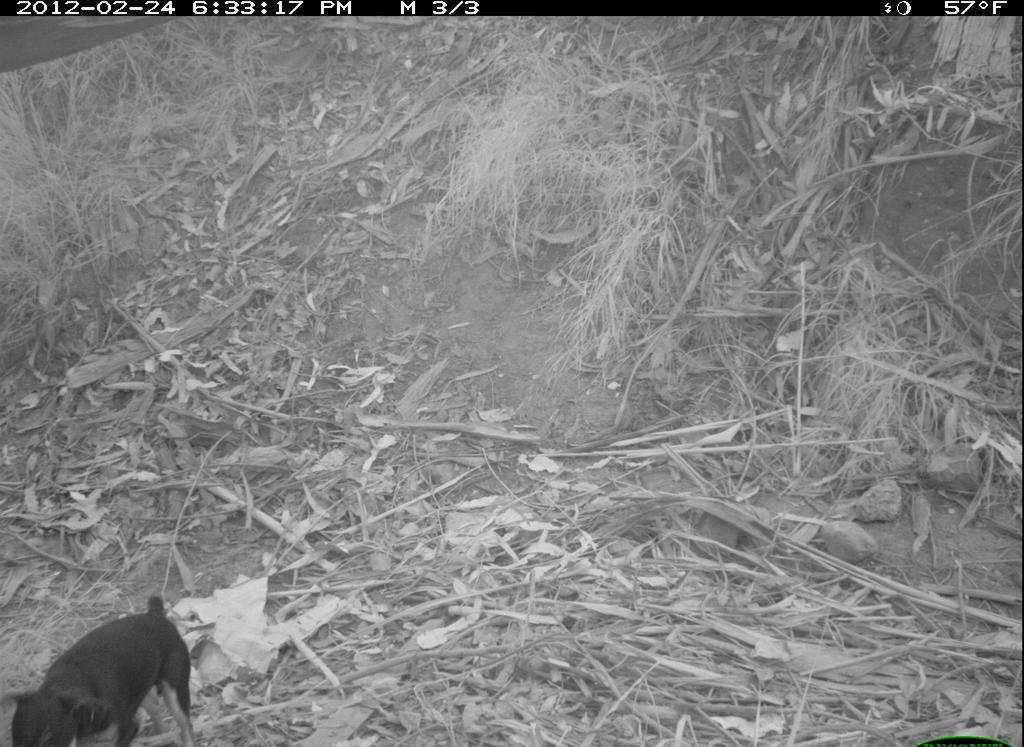dog: (11, 593, 205, 747)
